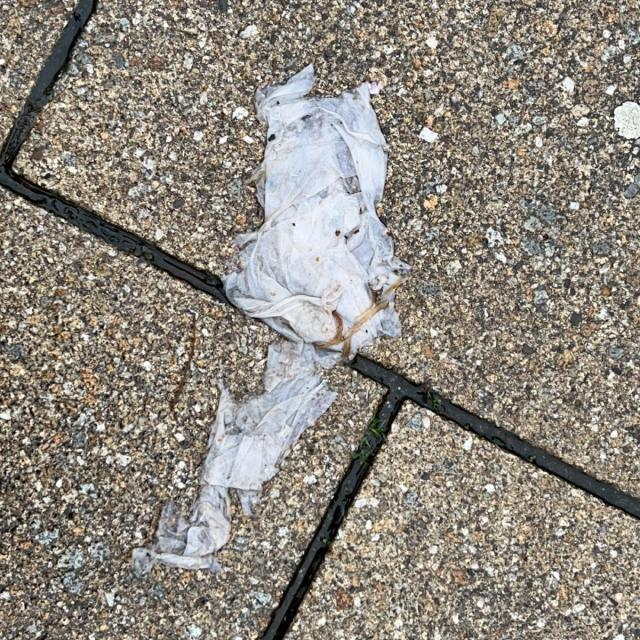Paper: (130, 56, 415, 577)
